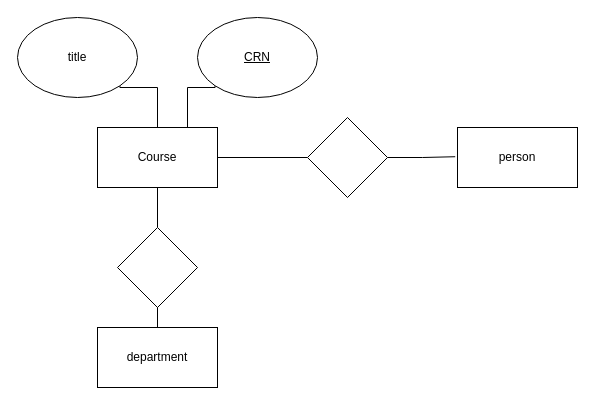
This 595x405 diagram has some shape labels left out. The shapes that lost their labels are listed below. From the top down, each one's box as (x1, y1, x2, y2) in pixels, then its label:
(306, 116, 388, 198): taught
(116, 226, 198, 308): offer
